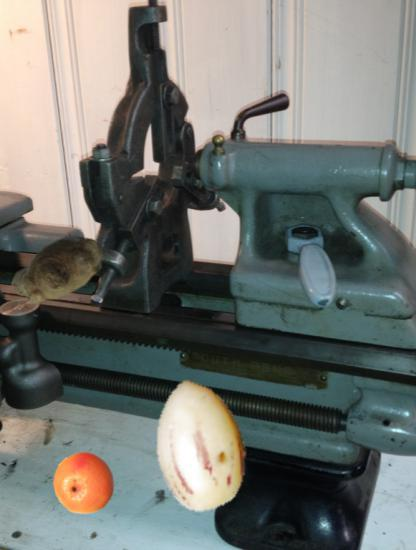Ginger: (9, 221, 108, 320)
Grapefruit: (53, 452, 116, 515)
Pepino: (135, 379, 270, 514)
